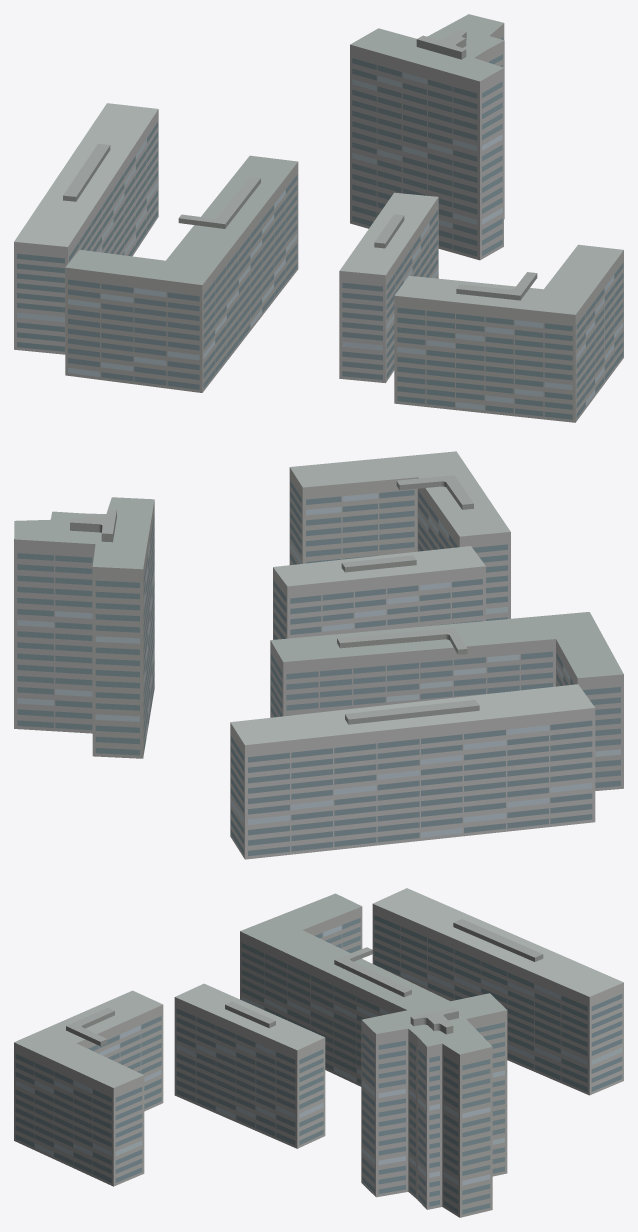
The model's file is apt-a15282608.glb.
The picture shows the model from 3 angles, top to bottom: view 1: azimuth 30°, elevation 25°; view 2: azimuth 150°, elevation 25°; view 3: azimuth 270°, elevation 25°; orthographic projection. The views are drawn at different scales.
Visible parts, largest first — view 1: apt-a15282608; view 2: apt-a15282608; view 3: apt-a15282608.
Boxes of the visible parts, x1,y1,x2,y2 form: apt-a15282608: (14,14,623,422); apt-a15282608: (14,451,623,859); apt-a15282608: (14,888,623,1217).
Bounding box in the file's own units: 169 × 58 × 188.
